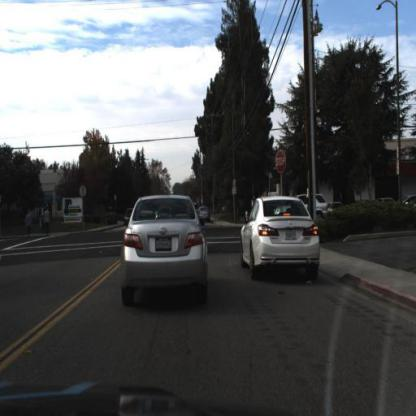car: (120, 193, 209, 308), (239, 192, 323, 280)
pedestrian: (24, 204, 33, 239), (44, 205, 52, 236)
